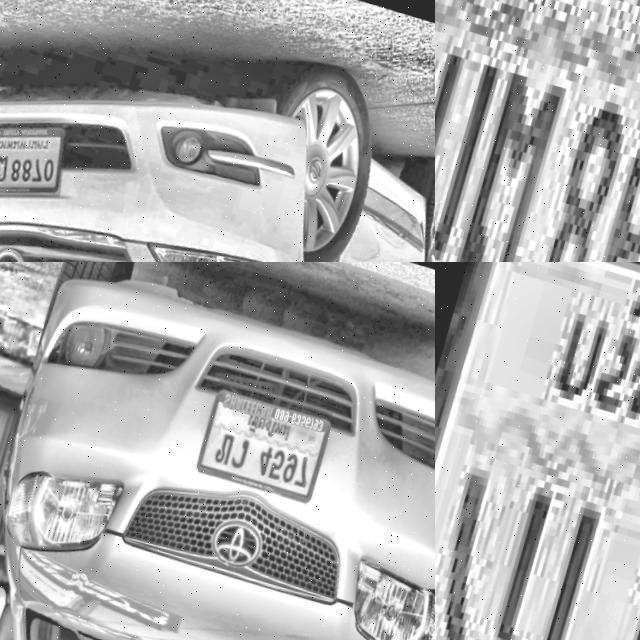license-plate: (435, 262, 640, 640), (435, 0, 640, 262), (191, 367, 340, 510), (0, 96, 84, 225)
